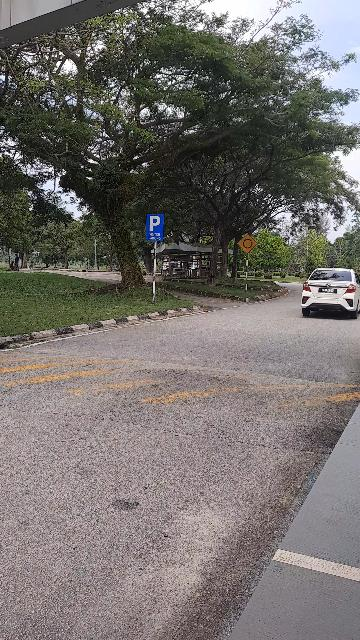License_Plate: (320, 288, 339, 294)
car: (304, 269, 360, 320)
